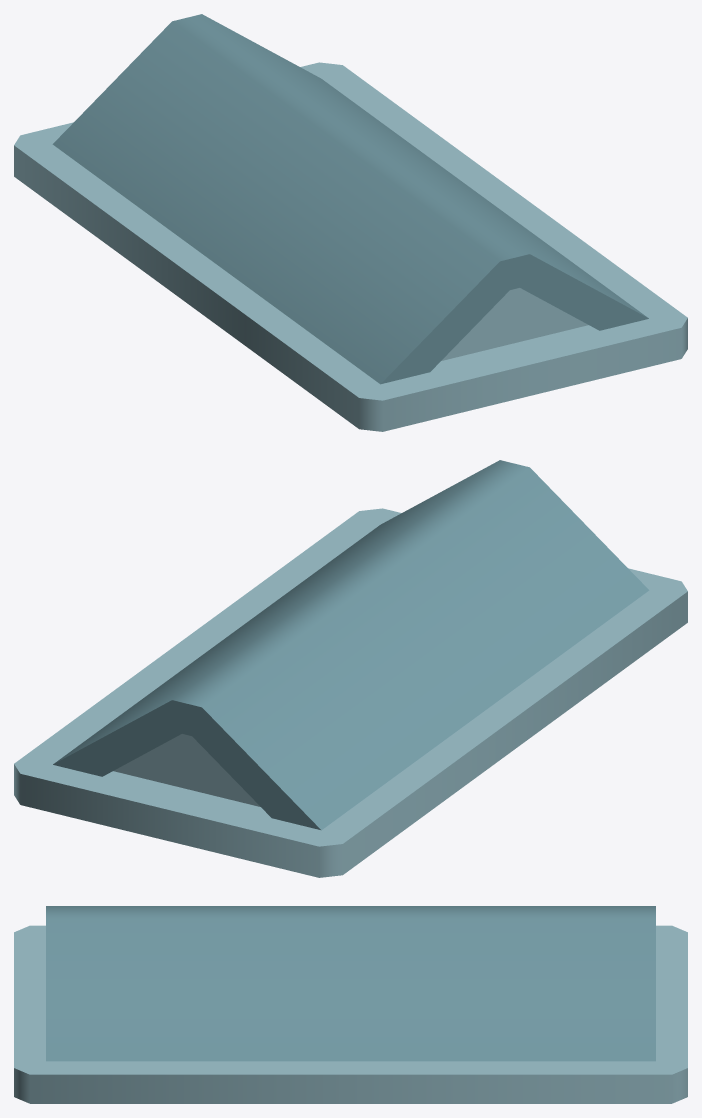
File: cryptLargeRoof.obj
3 views of the same model, one above another, from view 1: azimuth 30°, elevation 25°; view 2: azimuth 150°, elevation 25°; view 3: azimuth 270°, elevation 25° (orthographic). The views are drawn at different scales.
Parts seen in each view (by area): view 1: cryptLargeRoof; view 2: cryptLargeRoof; view 3: cryptLargeRoof.
Boxes of the visible parts, x1,y1,x2,y2 form: cryptLargeRoof: [14, 14, 687, 431]; cryptLargeRoof: [14, 460, 687, 877]; cryptLargeRoof: [14, 906, 687, 1103].
Size of the model in its own units: 1.1 by 0.4 by 2.1.
